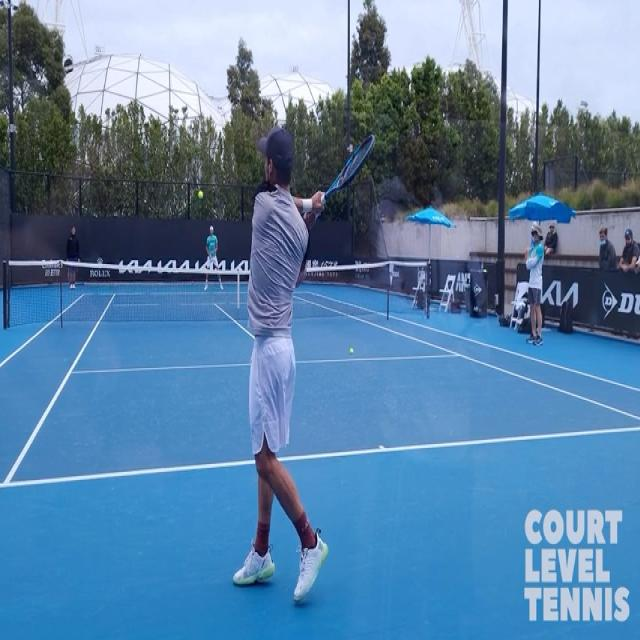backhand-finish: (223, 110, 379, 618)
